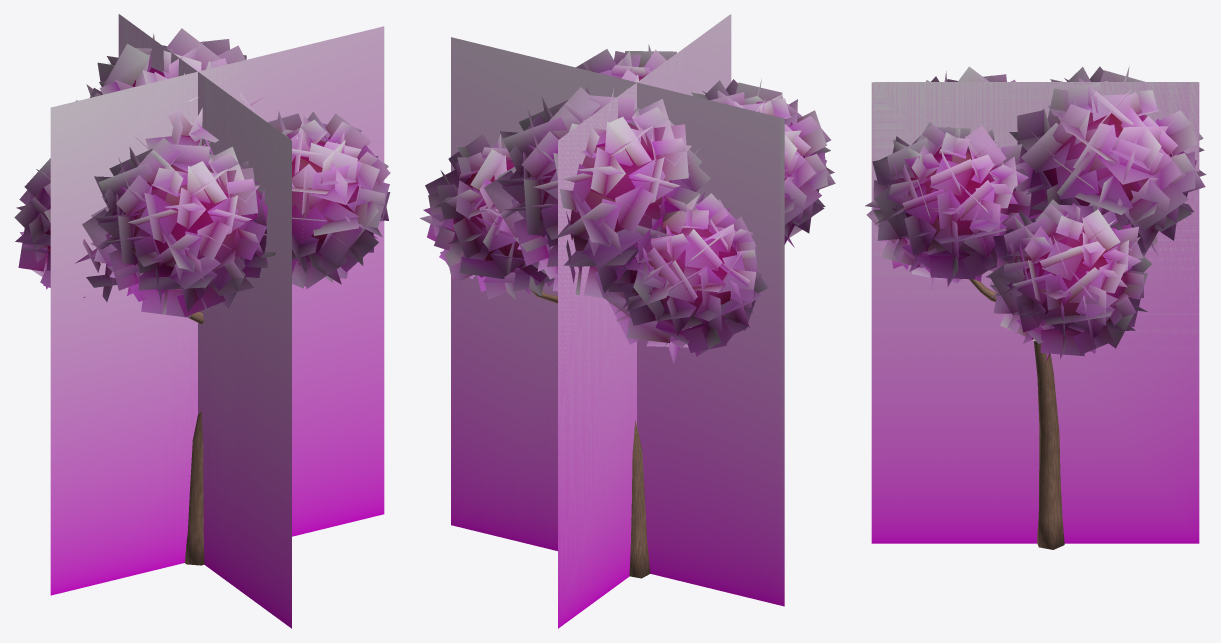
File: FAE_Tree_A.fbx
3 renders of one model, left to right at view 1: azimuth 30°, elevation 25°; view 2: azimuth 150°, elevation 25°; view 3: azimuth 270°, elevation 25°, orthographic. The views are drawn at different scales.
Parts seen in each view (by area): view 1: FAE_Tree_A_Billboard, FAE_Tree_A_LOD0; view 2: FAE_Tree_A_Billboard, FAE_Tree_A_LOD0; view 3: FAE_Tree_A_Billboard, FAE_Tree_A_LOD0.
Boxes of the visible parts, bbox=[...] form: FAE_Tree_A_Billboard: bbox=[50, 14, 384, 628]; FAE_Tree_A_LOD0: bbox=[14, 28, 390, 565]; FAE_Tree_A_Billboard: bbox=[451, 14, 784, 628]; FAE_Tree_A_LOD0: bbox=[420, 44, 835, 578]; FAE_Tree_A_Billboard: bbox=[871, 82, 1199, 543]; FAE_Tree_A_LOD0: bbox=[865, 66, 1206, 549].
Size of what is drawn, in the model's own units: 784 by 1083 by 718.
